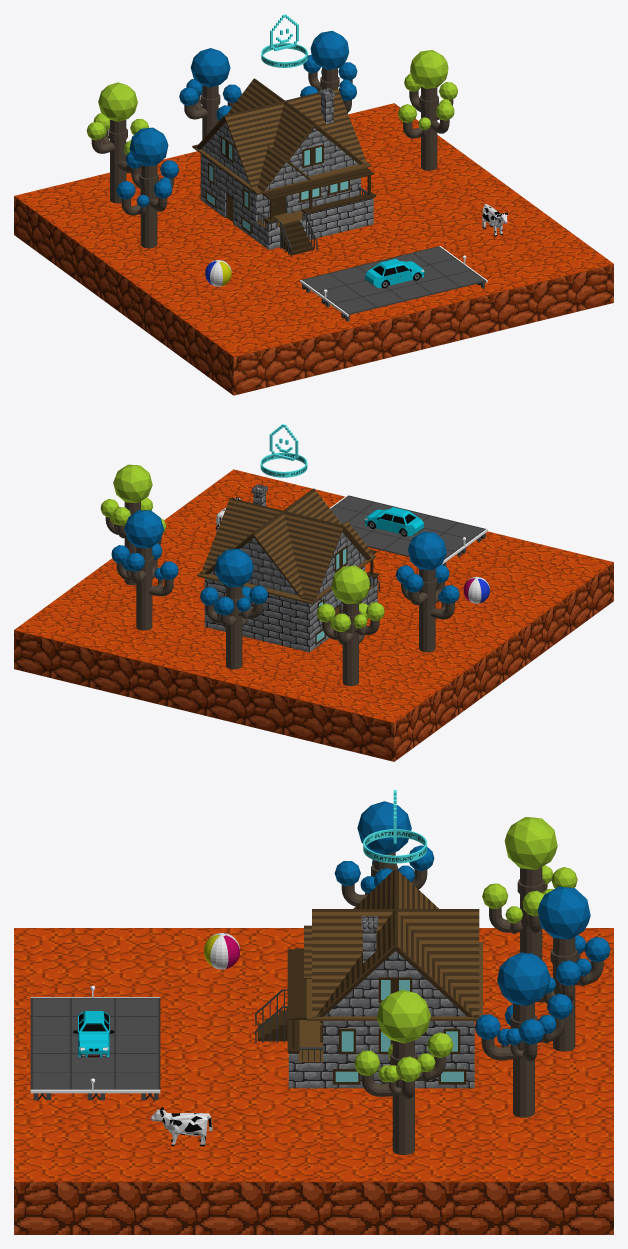
3 views of the same model, one above another, from view 1: azimuth 30°, elevation 25°; view 2: azimuth 150°, elevation 25°; view 3: azimuth 270°, elevation 25° (orthographic). The views are drawn at different scales.
Parts seen in each view (by area): view 1: Cube.001, Cube.586, VEHICLES_CAR, TYPE_PREMIUM, OBJRANDOM_BEACHBALL; view 2: Cube.001, Cube.586, VEHICLES_CAR, TYPE_PREMIUM, OBJRANDOM_BEACHBALL; view 3: Cube.001, Cube.586, VEHICLES_CAR, TYPE_PREMIUM, ANIMAL_VACA, OBJRANDOM_BEACHBALL.
Boxes of the visible parts, x1,y1,x2,y2 form: Cube.001: (14,30,613,395); Cube.586: (192,78,376,256); VEHICLES_CAR: (364,258,424,288); TYPE_PREMIUM: (261,14,307,67); OBJRANDOM_BEACHBALL: (205,260,231,286); Cube.001: (14,464,613,761); Cube.586: (197,484,379,652); VEHICLES_CAR: (364,507,424,536); TYPE_PREMIUM: (260,424,307,477); OBJRANDOM_BEACHBALL: (463,576,489,603); Cube.001: (14,801,613,1234); Cube.586: (255,869,482,1088); VEHICLES_CAR: (73,1011,114,1057); TYPE_PREMIUM: (363,790,426,863); ANIMAL_VACA: (150,1107,212,1146); OBJRANDOM_BEACHBALL: (204,933,239,969).
Bounding box in the file's own units: 4000 × 2360 × 4000.
33 materials, 7 textured.
